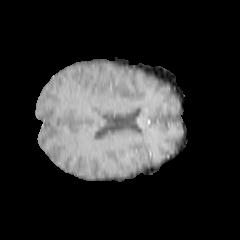glioma: (77, 84, 109, 112)
